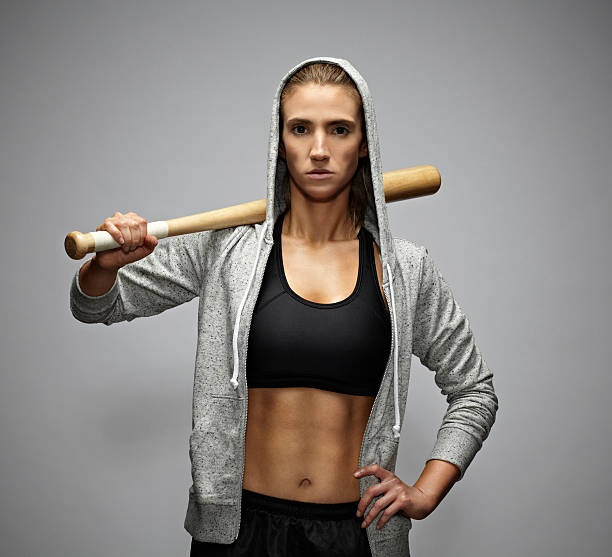bita: (64, 167, 442, 257)
